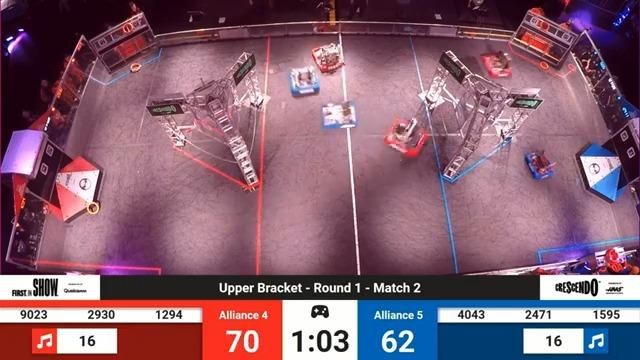robot: (385, 102, 431, 161), (475, 43, 516, 78), (318, 98, 360, 131), (308, 41, 343, 78), (524, 148, 562, 182), (287, 65, 321, 98)
